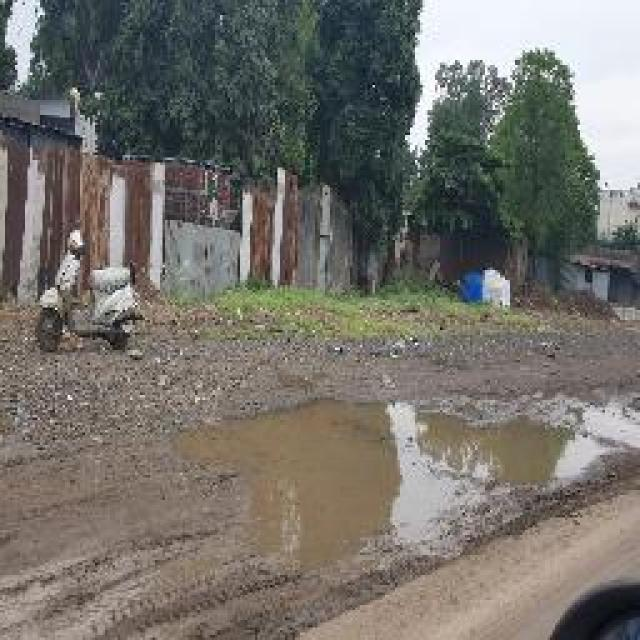stagnation: (197, 379, 640, 552)
